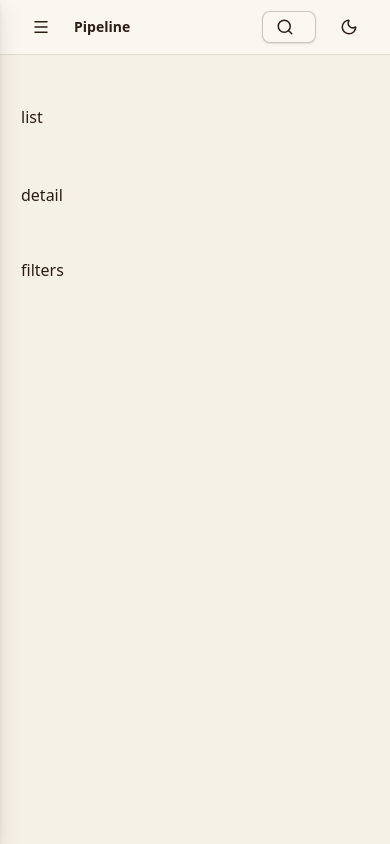
it: Shell › marks the current page, navigates, and opens the mobile menu
Earlier steps of the test are not shown.
Click the button "Search": (289, 27) [262, 11, 316, 43]
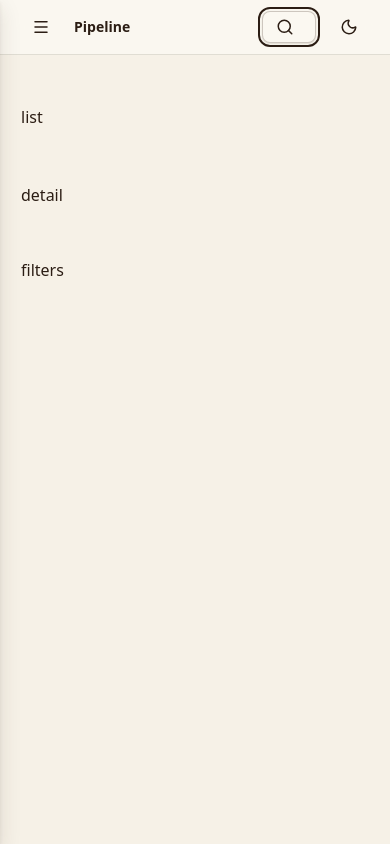
Click the button named "Open menu": (41, 27) [21, 7, 61, 47]
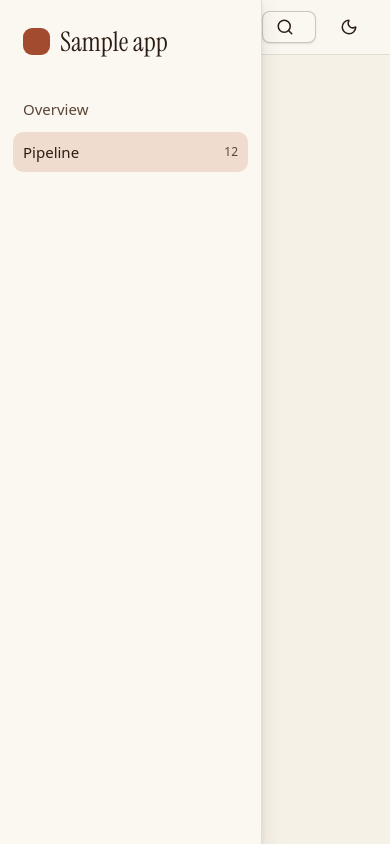
Result: the button named "Open menu" is expanded at [21, 7, 61, 47]
